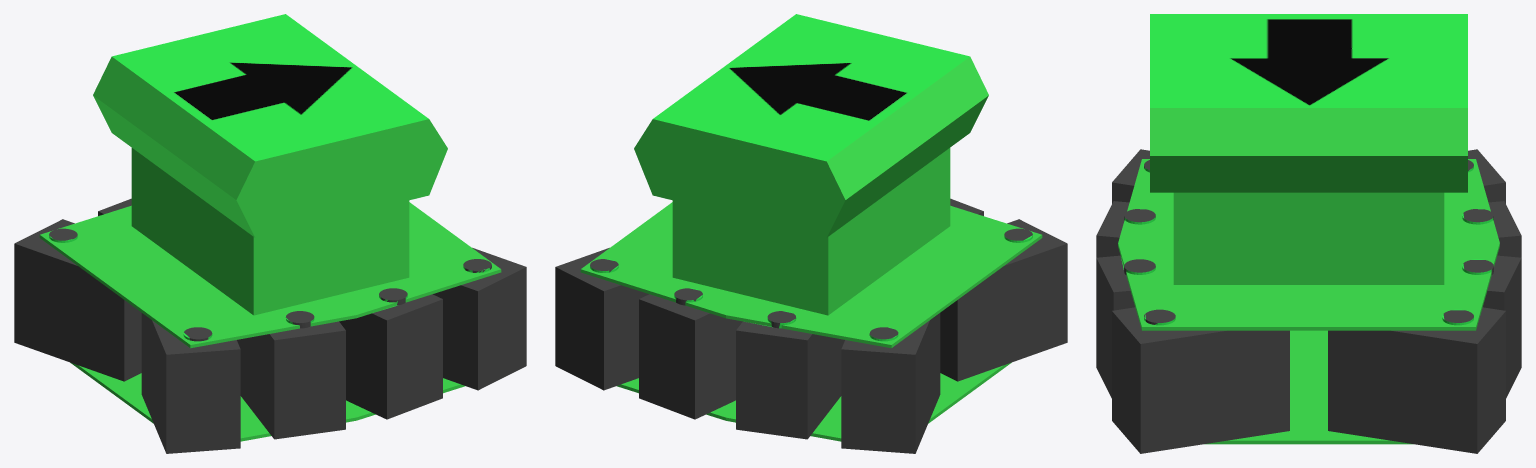
The model's file is base_8leg.dae.
3 renders of one model, left to right at view 1: azimuth 30°, elevation 25°; view 2: azimuth 150°, elevation 25°; view 3: azimuth 270°, elevation 25°, orthographic. The views are drawn at different scales.
Parts seen in each view (by area): view 1: Base 8Leg; view 2: Base 8Leg; view 3: Base 8Leg.
Part boxes in pixels (x1,y1,x2,y2): Base 8Leg: (14, 14, 526, 453); Base 8Leg: (555, 14, 1067, 453); Base 8Leg: (1096, 14, 1521, 453).
Bounding box in the file's own units: 0.1159 × 0.107 × 0.0836.
3 materials, 1 textured.
